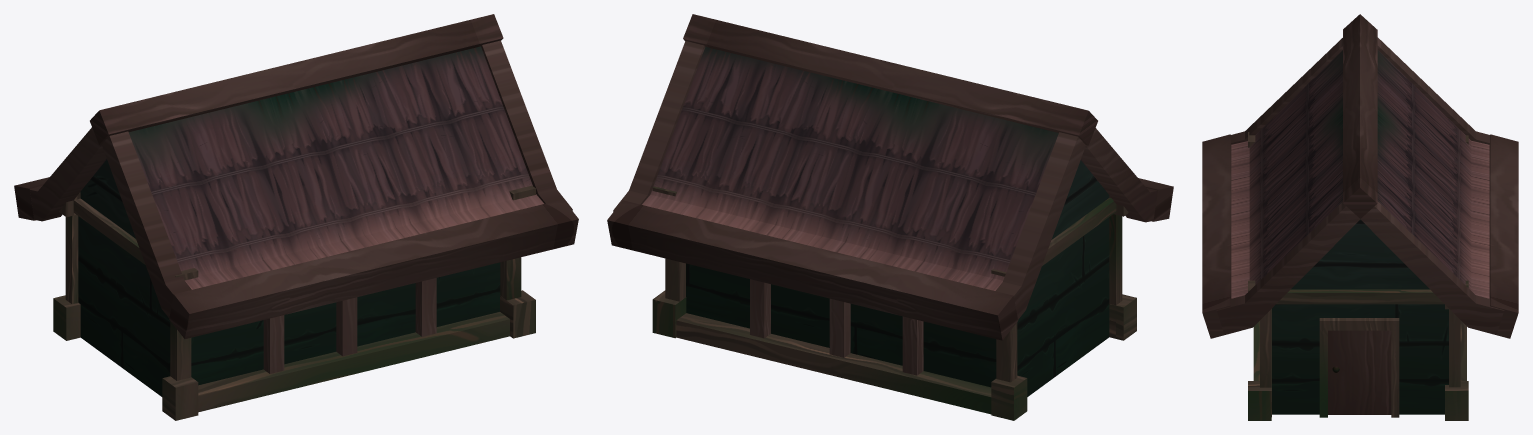
File: Rumah 2.fbx
The picture shows the model from 3 angles, left to right: view 1: azimuth 30°, elevation 25°; view 2: azimuth 150°, elevation 25°; view 3: azimuth 270°, elevation 25°; orthographic projection. The views are drawn at different scales.
Visible parts, largest first — view 1: Plane, Plane.001, Cube.017, Plane.003, Cube.011, Cube, Cube.019, Cube.013, Cube.007, Cube.016, Cube.003, Cube.004 (+3 smaller); view 2: Plane, Plane.001, Cube.010, Plane.003, Cube.011, Cube.014, Cube.019, Cube.013, Cube.008, Cube.002, Cube.015, Cube.001 (+3 smaller); view 3: Plane, Plane.001, Plane.003, Cube.011, Cube.010, Cube.017, Plane.002, Cube.018, Cube.012, Cube.019, Cube.005, Cube.006 (+2 smaller).
Boxes of the visible parts, bbox=[...] form: Plane: bbox=[86, 46, 544, 289]; Plane.001: bbox=[78, 159, 500, 396]; Cube.017: bbox=[169, 199, 578, 338]; Plane.003: bbox=[30, 40, 572, 317]; Cube.011: bbox=[90, 14, 503, 144]; Cube: bbox=[198, 312, 509, 412]; Cube.019: bbox=[53, 185, 535, 420]; Cube.013: bbox=[73, 198, 145, 264]; Cube.007: bbox=[65, 215, 78, 303]; Cube.016: bbox=[336, 297, 357, 356]; Cube.003: bbox=[415, 278, 436, 336]; Cube.004: bbox=[263, 315, 284, 373]; Plane: bbox=[642, 47, 1100, 290]; Plane.001: bbox=[686, 160, 1109, 396]; Cube.010: bbox=[607, 200, 1018, 340]; Plane.003: bbox=[613, 41, 1157, 319]; Cube.011: bbox=[683, 14, 1097, 145]; Cube.014: bbox=[676, 313, 991, 414]; Cube.019: bbox=[652, 186, 1136, 420]; Cube.013: bbox=[1042, 197, 1116, 265]; Cube.008: bbox=[1109, 214, 1122, 305]; Cube.002: bbox=[902, 316, 923, 375]; Cube.015: bbox=[829, 298, 850, 357]; Cube.001: bbox=[750, 279, 770, 338]; Plane: bbox=[1231, 50, 1489, 298]; Plane.001: bbox=[1272, 219, 1448, 414]; Plane.003: bbox=[1216, 37, 1504, 334]; Cube.011: bbox=[1343, 14, 1377, 218]; Cube.010: bbox=[1489, 134, 1518, 338]; Cube.017: bbox=[1202, 134, 1231, 338]; Plane.002: bbox=[1328, 330, 1391, 414]; Cube.018: bbox=[1319, 318, 1399, 417]; Cube.012: bbox=[1276, 289, 1444, 304]; Cube.019: bbox=[1248, 132, 1468, 420]; Cube.005: bbox=[1449, 309, 1460, 387]; Cube.006: bbox=[1260, 309, 1271, 387].
Bounding box in the file's own units: 357 × 232 × 274.
